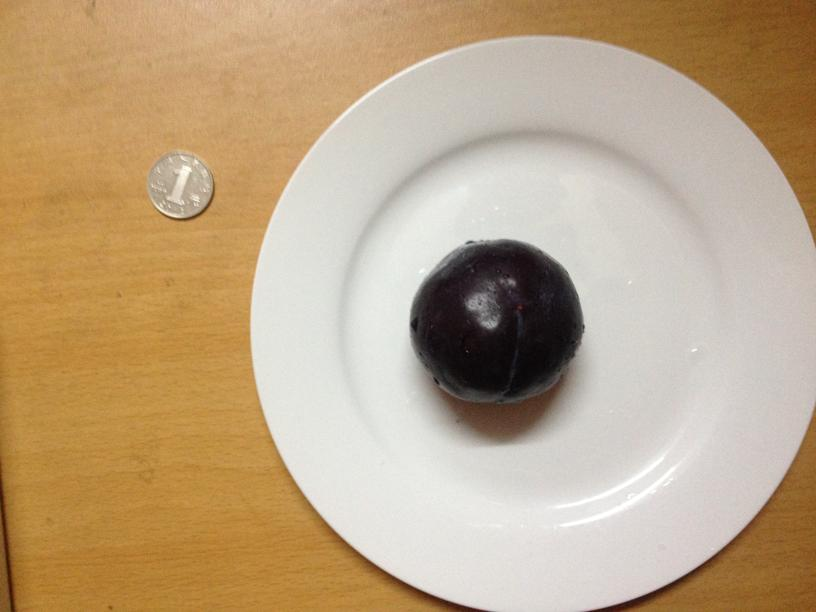coin: (147, 152, 216, 219)
plum: (411, 243, 581, 402)
